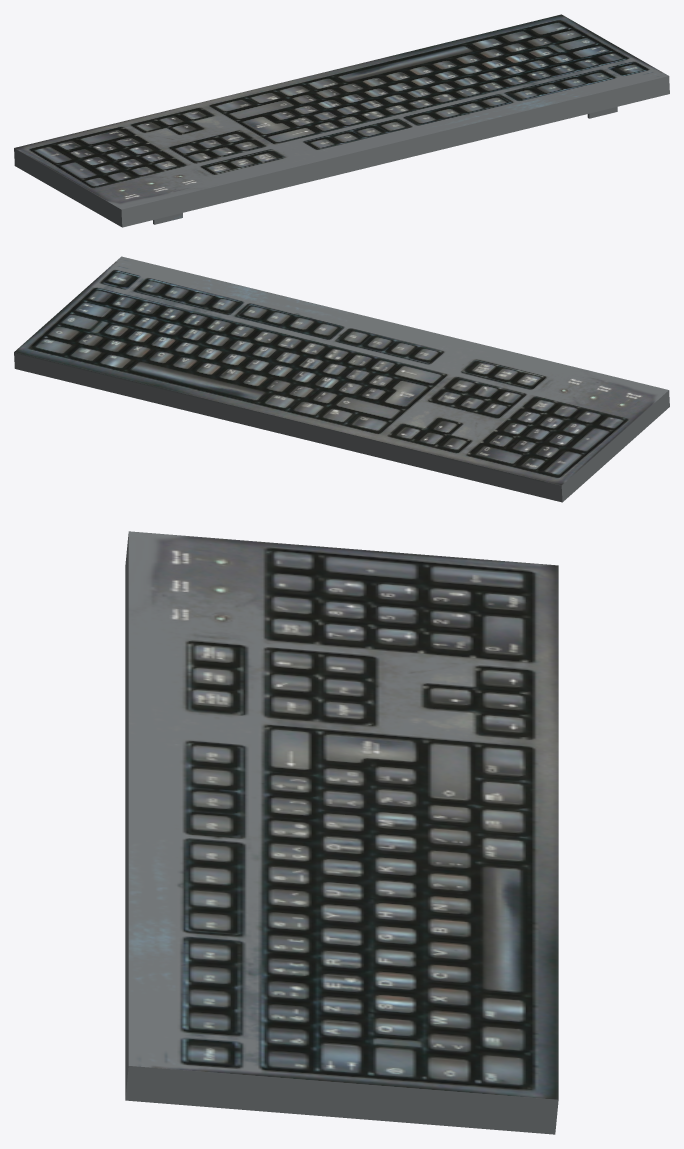
File: Keyboard.fbx
The picture shows the model from 3 angles, top to bottom: view 1: azimuth 30°, elevation 25°; view 2: azimuth 150°, elevation 25°; view 3: azimuth 270°, elevation 25°; orthographic projection. The views are drawn at different scales.
Visible parts, largest first — view 1: Keyboard; view 2: Keyboard; view 3: Keyboard.
Boxes of the visible parts, x1=… form: Keyboard: x1=14, y1=14, x2=669, y2=227; Keyboard: x1=14, y1=256, x2=669, y2=502; Keyboard: x1=125, y1=531, x2=558, y2=1134.
Bounding box in the file's own units: 0.4309 × 0.0262 × 0.1476.
